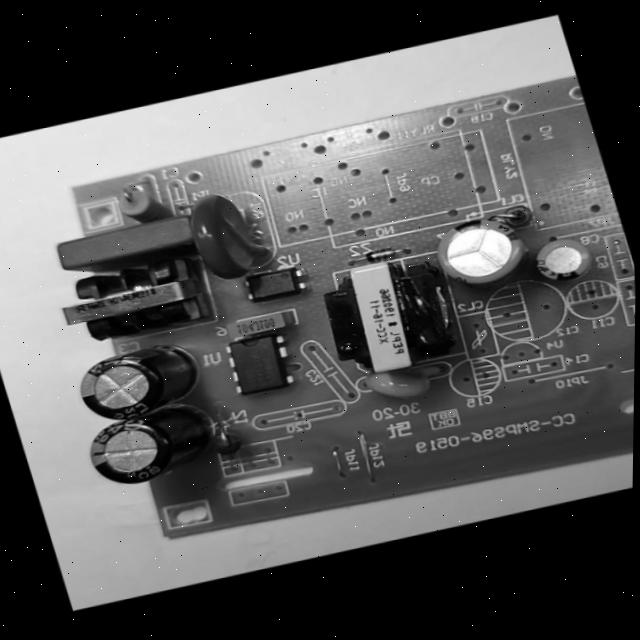Cap1: (422, 207, 538, 294)
Cap2: (525, 231, 599, 289)
Cap3: (69, 337, 212, 430)
Cap4: (77, 400, 226, 495)
MOSFET: (217, 329, 303, 401)
Mov: (177, 182, 282, 289)
Resistor: (111, 179, 174, 228)
Transformer: (308, 249, 463, 385), (44, 247, 211, 351)
